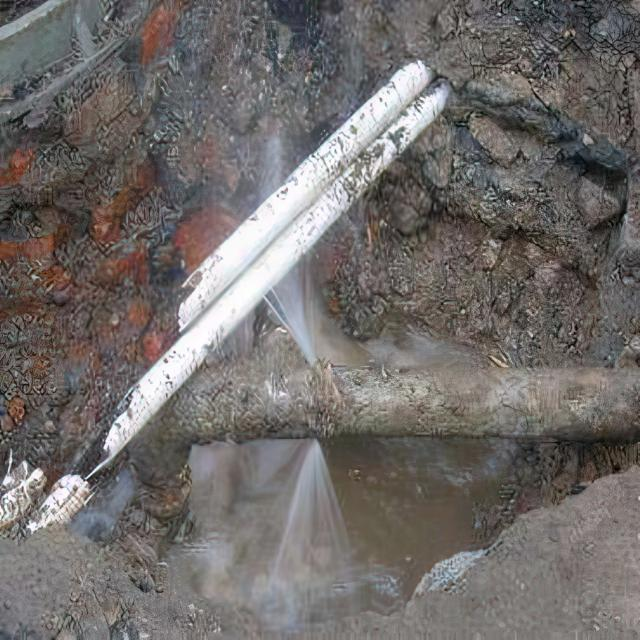leak: (270, 439, 349, 622), (264, 257, 316, 366)
